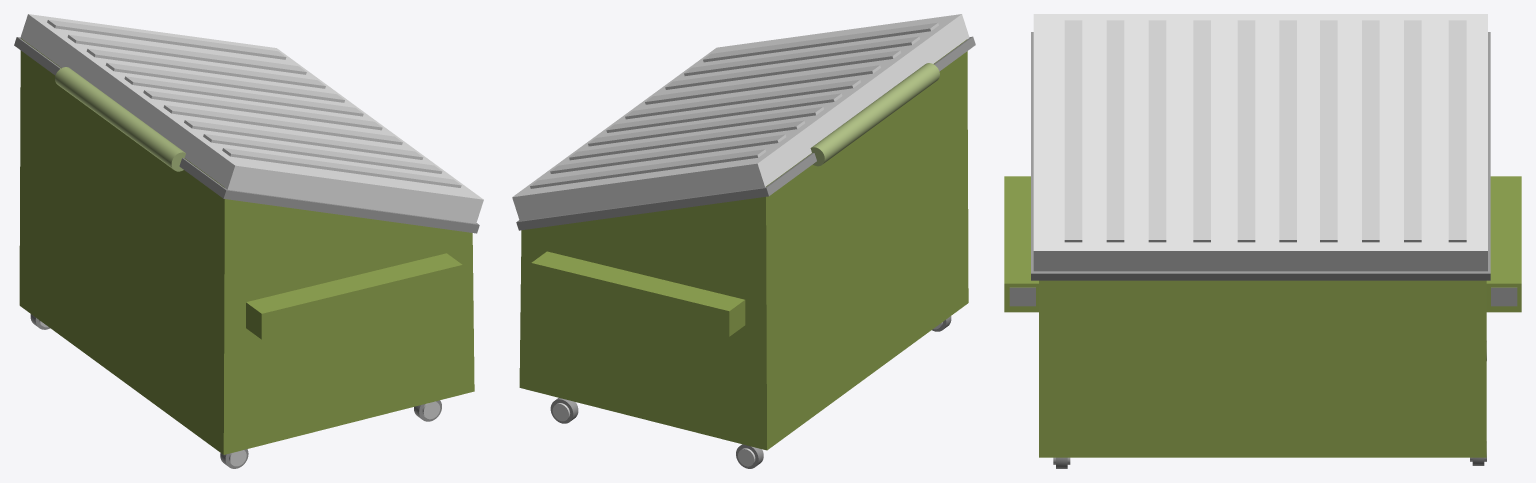
Rendered from props25.fbx.
The picture shows the model from 3 angles, left to right: view 1: azimuth 30°, elevation 25°; view 2: azimuth 150°, elevation 25°; view 3: azimuth 270°, elevation 25°; orthographic projection. The views are drawn at different scales.
Parts seen in each view (by area): view 1: Cylinder_5; view 2: Cylinder_5; view 3: Cylinder_5.
Boxes of the visible parts, x1=… form: Cylinder_5: x1=14, y1=14, x2=483, y2=468; Cylinder_5: x1=512, y1=14, x2=975, y2=468; Cylinder_5: x1=1004, y1=14, x2=1521, y2=468.
Bounding box in the file's own units: 141 × 157 × 214.
